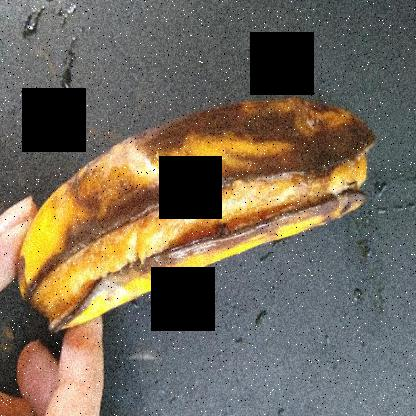rotten: (13, 79, 390, 342)
